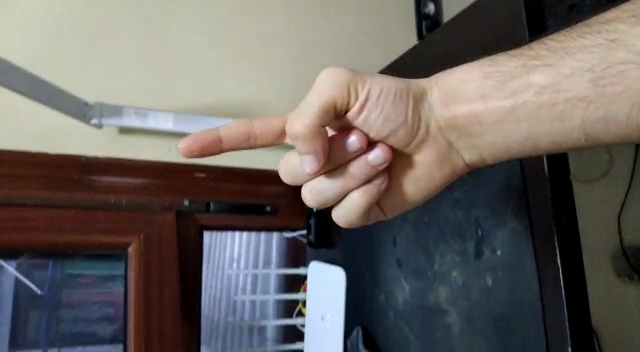One: (177, 67, 427, 247)
